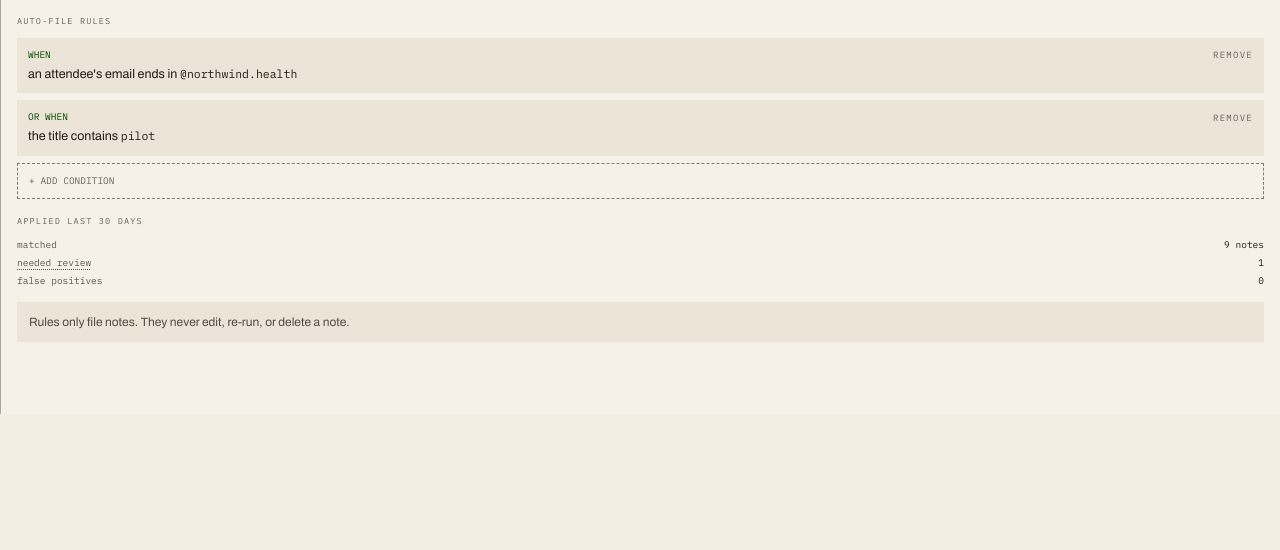
Test: RulePanel › keeps the form open and says why when the value is invalid
This screenshot has width=1280, height=550.
Click the button "+ ADD CONDITION" at (72, 180), box 17,162 -> 1264,199
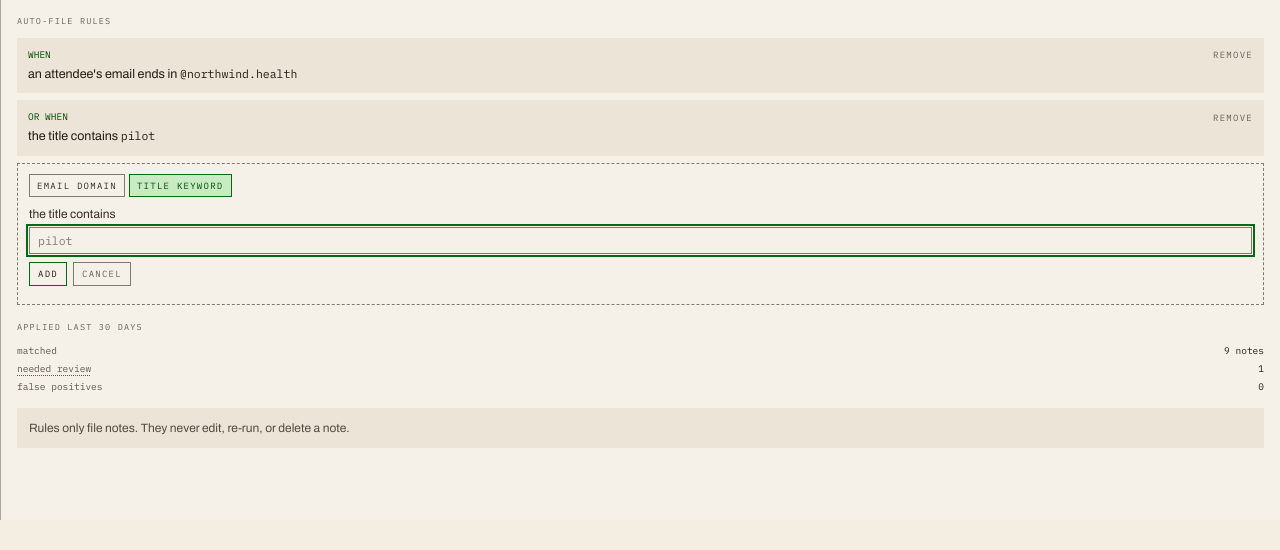
Click the button "Email domain" at (77, 185), box 29,174 -> 125,197
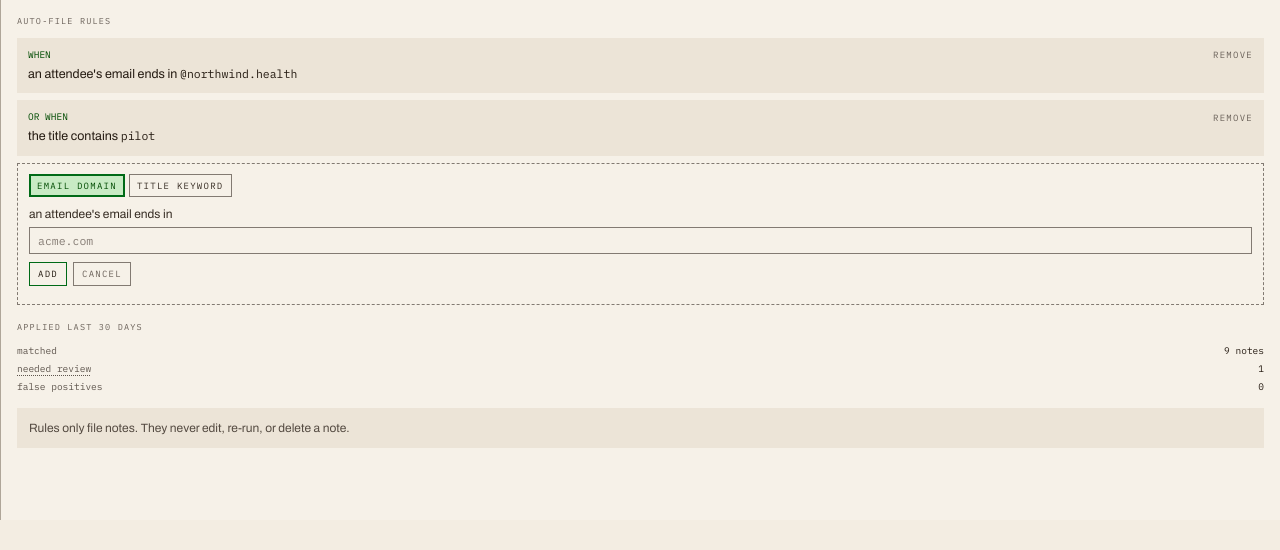
Type "acme" into the field at (640, 241), box 38,232 -> 1243,249
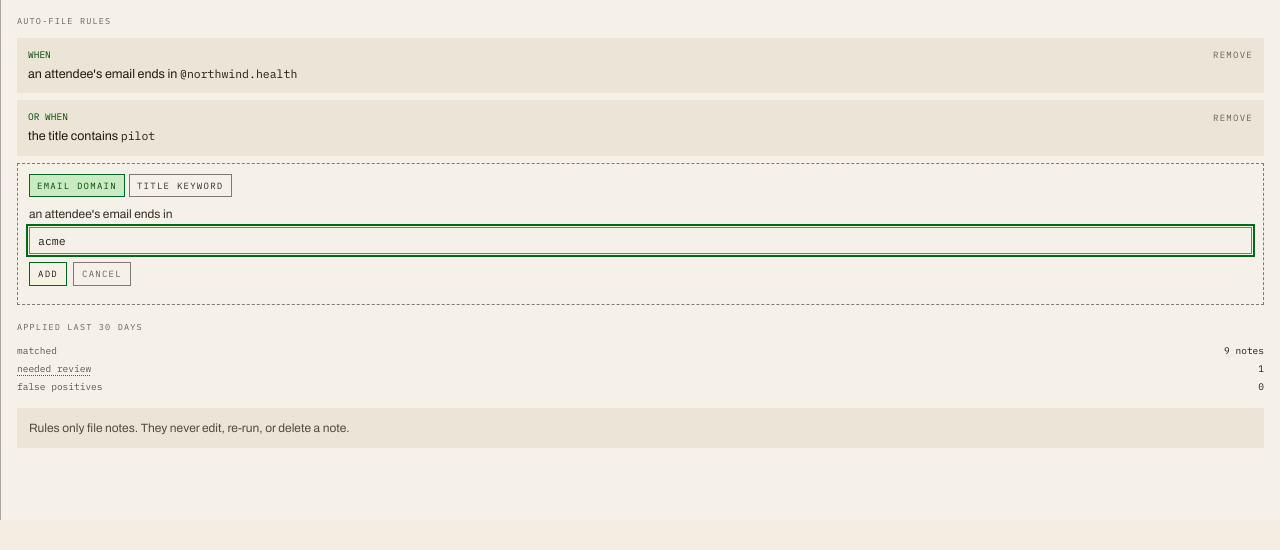
Click the button "Add" at (48, 274), box 29,262 -> 67,286
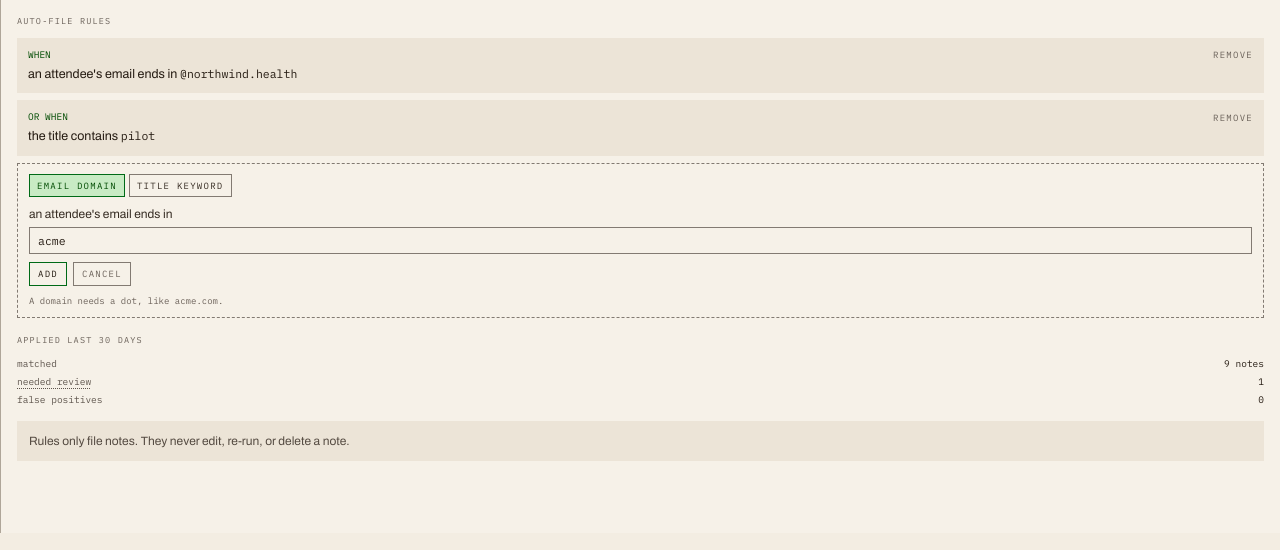
expect the text "A domain needs a dot, like acme.com." is shown: met, box 29,295 -> 223,306
